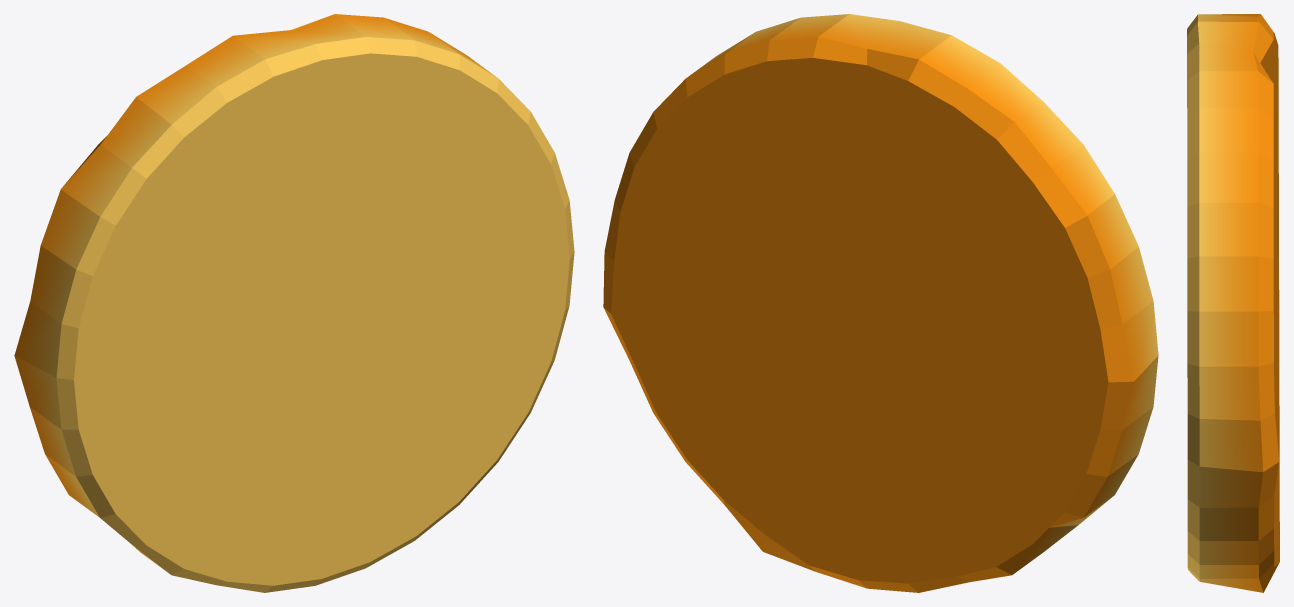
File: pancake.fbx
The picture shows the model from 3 angles, left to right: view 1: azimuth 30°, elevation 25°; view 2: azimuth 150°, elevation 25°; view 3: azimuth 270°, elevation 25°; orthographic projection. The views are drawn at different scales.
Parts seen in each view (by area): view 1: Cube; view 2: Cube; view 3: Cube.
Boxes of the visible parts, x1,y1,x2,y2 form: Cube: [14, 14, 574, 592]; Cube: [603, 14, 1158, 592]; Cube: [1187, 14, 1279, 592].
Size of the model in its own units: 765 by 749 by 123.
